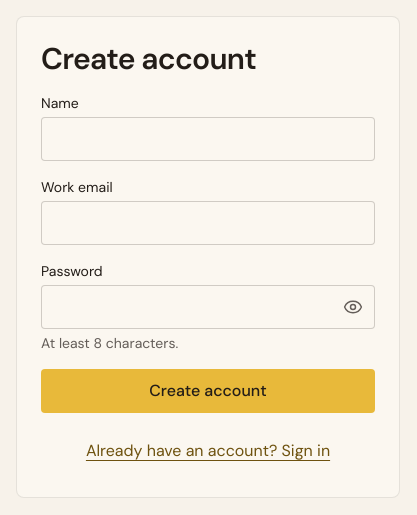
Test: SignUpPage › stays on Creating account… while the next page loads
Type "Van" into the field labelled "Name" at (208, 139), box [41,117,375,161]
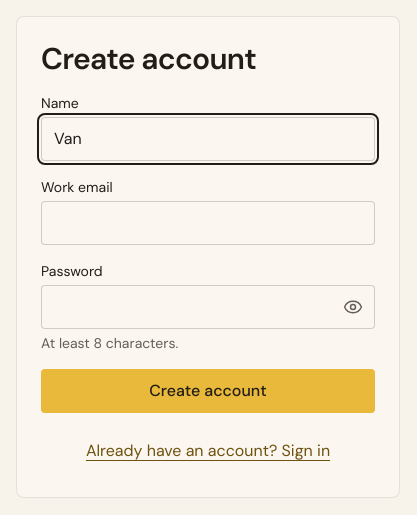
Type "van@example.com" into the field labelled "Work email" at (208, 223), box [41,201,375,245]
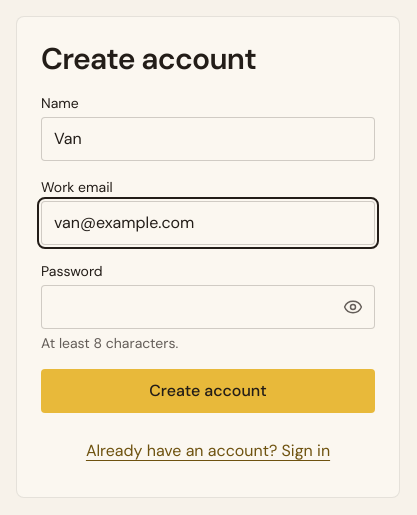
Type "correct-horse" into the password field labelled "Password" at (208, 307), box [41,285,375,329]
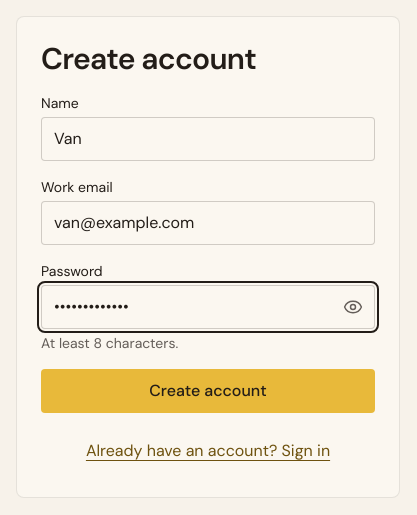
Click the button "Create account" at (208, 391), box [41,369,375,413]
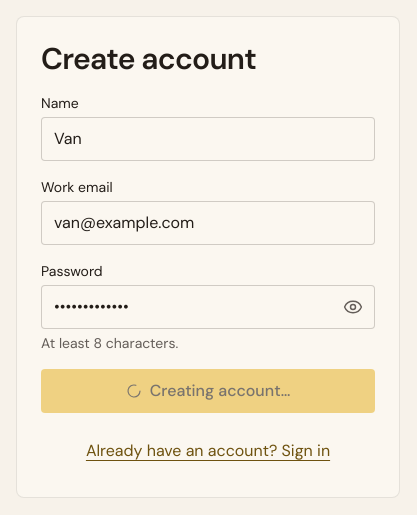
Expected: the button "Creating account…" is disabled, [41,369,375,413]
